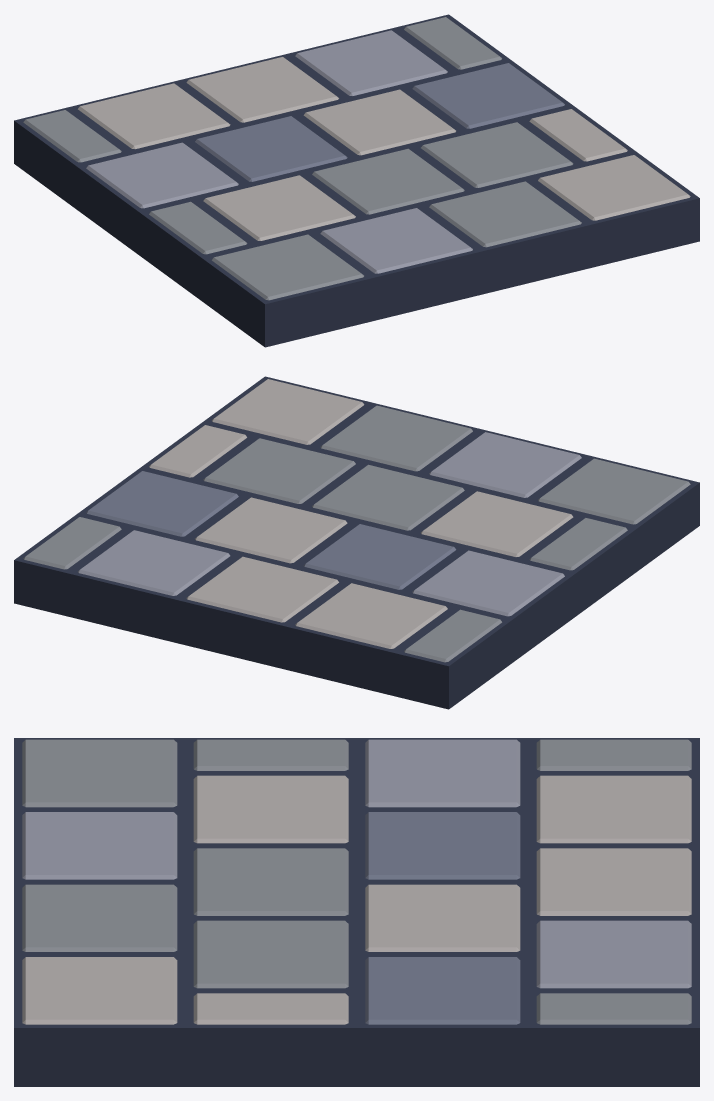
The model's file is EG_Suelo_Piedra_B_2m.fbx.
The picture shows the model from 3 angles, top to bottom: view 1: azimuth 30°, elevation 25°; view 2: azimuth 150°, elevation 25°; view 3: azimuth 270°, elevation 25°; orthographic projection. The views are drawn at different scales.
Parts seen in each view (by area): view 1: EG_Suelo_Piedra_B_2m; view 2: EG_Suelo_Piedra_B_2m; view 3: EG_Suelo_Piedra_B_2m.
Part boxes in pixels (bbox=[...]): EG_Suelo_Piedra_B_2m: bbox=[14, 14, 699, 347]; EG_Suelo_Piedra_B_2m: bbox=[14, 376, 699, 709]; EG_Suelo_Piedra_B_2m: bbox=[14, 738, 699, 1086].
Bounding box in the file's own units: 2 × 0.2005 × 2.
1 material, 1 textured.
